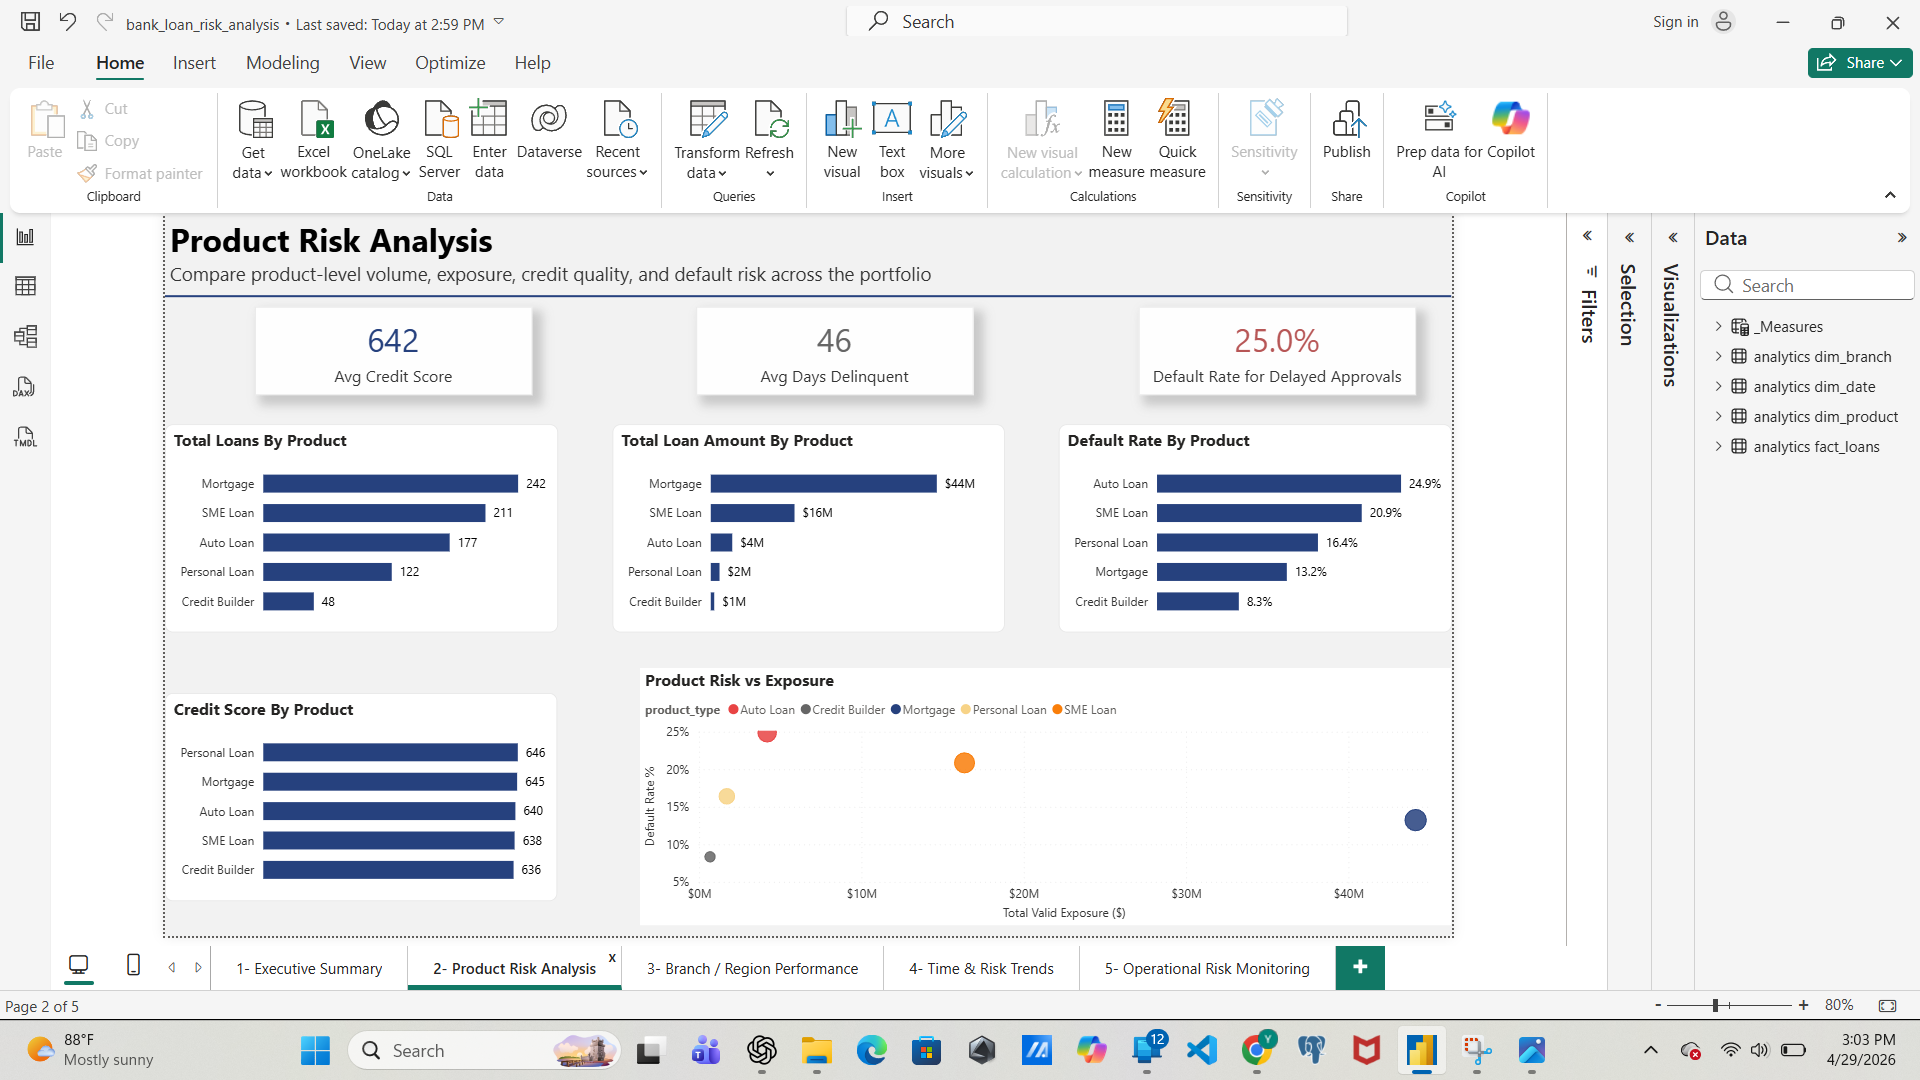

Layout of this report page (visuals, bound fields, positions):
{"tool":"powerbi","page":{"name":"2- Product Risk Analysis","canvas":[1280,720],"ordinal":1},"visuals":[{"type":"shape","box":[0,0,1280,165.6],"z":0},{"type":"shape","box":[0,0,1280,80],"z":1000},{"type":"textbox","box":[0,0,1280,80],"z":2000},{"type":"card","fields":{"Values":["_Measures.Avg Credit Score"]},"box":[89,93.2,276,88],"z":3000},{"type":"card","fields":{"Values":["_Measures.Avg Delinquent Days"]},"box":[529,93.2,276,88],"z":4000},{"type":"clusteredBarChart","title":"Total Loan Amount By Product","fields":{"Y":["_Measures.Total Valid Loan Amount"],"Category":["analytics dim_product.product_type"]},"box":[445,210.1,390,207.3],"z":5000},{"type":"clusteredBarChart","title":"Default Rate By Product","fields":{"Y":["_Measures.Default Rate %"],"Category":["analytics dim_product.product_type"]},"box":[889,210.1,391,207.3],"z":6000},{"type":"clusteredBarChart","title":"Total Loans By Product","fields":{"Y":["_Measures.Total Loans"],"Category":["analytics dim_product.product_type"]},"box":[0,210.1,391,207.3],"z":7000},{"type":"clusteredBarChart","title":"Credit Score By Product","fields":{"Category":["analytics dim_product.product_type"],"Y":["_Measures.Avg Credit Score"]},"box":[0,477.2,390.6,207],"z":8000},{"type":"scatterChart","title":"Product Risk vs Exposure","fields":{"X":["_Measures.Total Valid Loan Amount"],"Y":["_Measures.Default Rate %"],"Size":["_Measures.Total Loans"],"Series":["analytics dim_product.product_type"]},"box":[473,452.7,807,256],"z":9000},{"type":"card","fields":{"Values":["_Measures.High Risk Approval Default Rate"]},"box":[969,93.2,276.2,88.3],"z":10000}]}

Visuals, with their boxes on the page's 1280x720 design canvas (x1, y1, x2, y2). These are canvas units, not pixel positions in the 1920x1080 screenshot, which may show the page scaled, cropped or inside an application window:
shape: bbox=(0, 0, 1280, 166)
shape: bbox=(0, 0, 1280, 80)
textbox: bbox=(0, 0, 1280, 80)
card - _Measures.Avg Credit Score: bbox=(89, 93, 365, 181)
card - _Measures.Avg Delinquent Days: bbox=(529, 93, 805, 181)
"Total Loan Amount By Product" clusteredBarChart: bbox=(445, 210, 835, 417)
"Default Rate By Product" clusteredBarChart: bbox=(889, 210, 1280, 417)
"Total Loans By Product" clusteredBarChart: bbox=(0, 210, 391, 417)
"Credit Score By Product" clusteredBarChart: bbox=(0, 477, 391, 684)
"Product Risk vs Exposure" scatterChart: bbox=(473, 453, 1280, 709)
card - _Measures.High Risk Approval Default Rate: bbox=(969, 93, 1245, 182)
